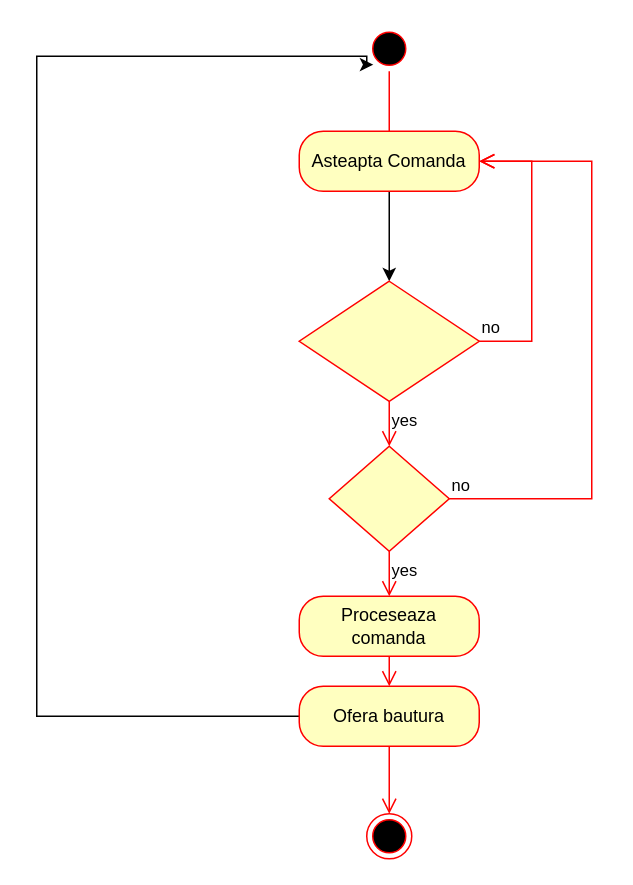
Image size: 633x885. Some labels were removed from this diagram. The centre of each missing label's shape, as x and y in pixels:
Indroduce bani: the point at 388,498
Primeste comanda: the point at 388,340
